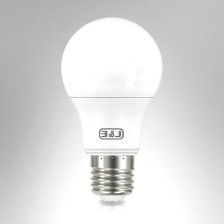light_bulb: (57, 14, 169, 208)
